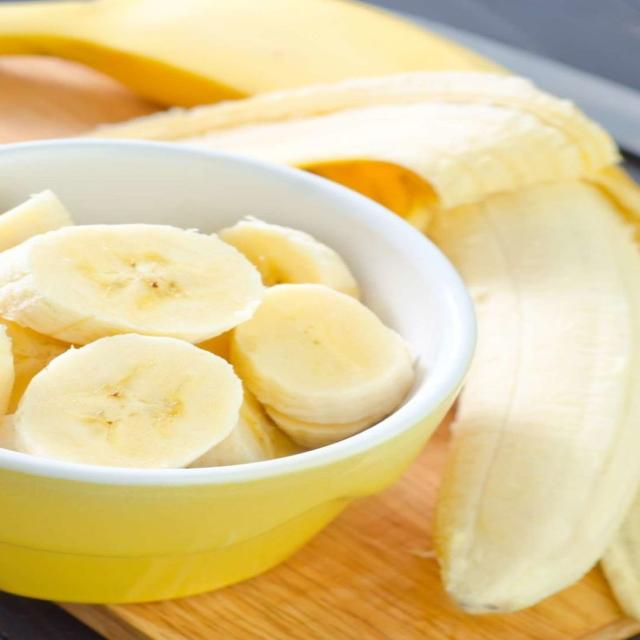banana slice: (0, 224, 263, 344), (16, 334, 242, 468), (231, 285, 413, 423), (219, 218, 359, 297), (190, 390, 300, 467), (0, 320, 69, 412), (265, 407, 385, 448), (0, 190, 73, 251), (0, 324, 14, 415), (197, 332, 231, 359), (0, 415, 19, 450)
